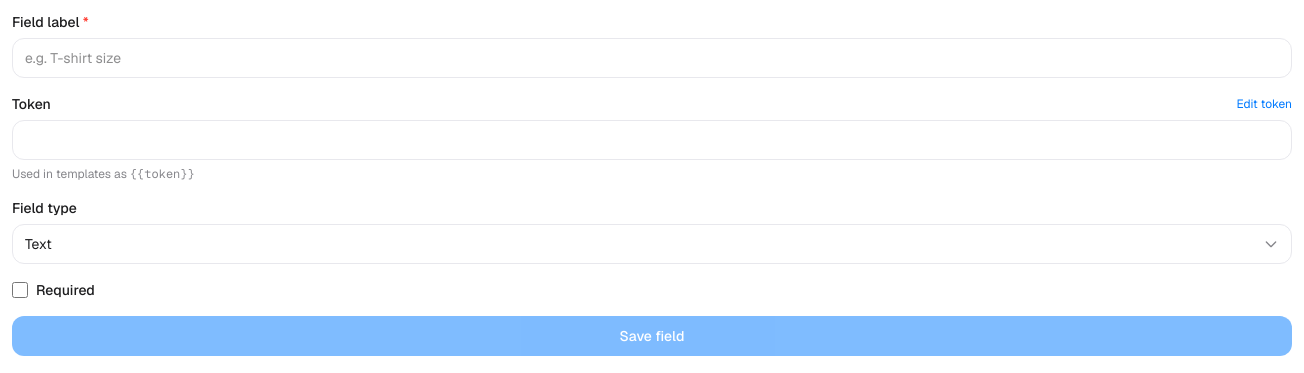
FieldForm › auto-generates token from label
Type "T-shirt size" into the field labelled "Field label *" at coordinates (652, 58), box x1=12 y1=38 x2=1292 y2=78
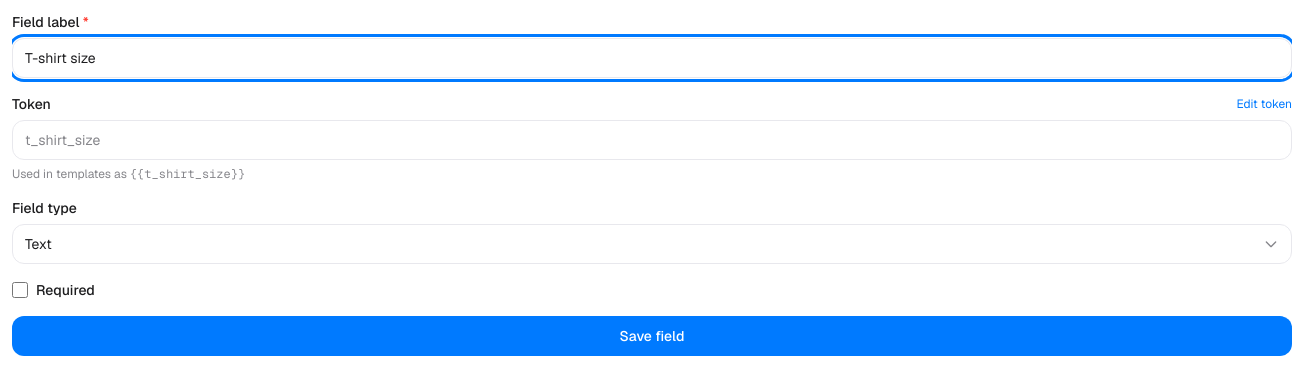
Expected: the field labelled "Token" holds "t_shirt_size", x1=12 y1=120 x2=1292 y2=160
